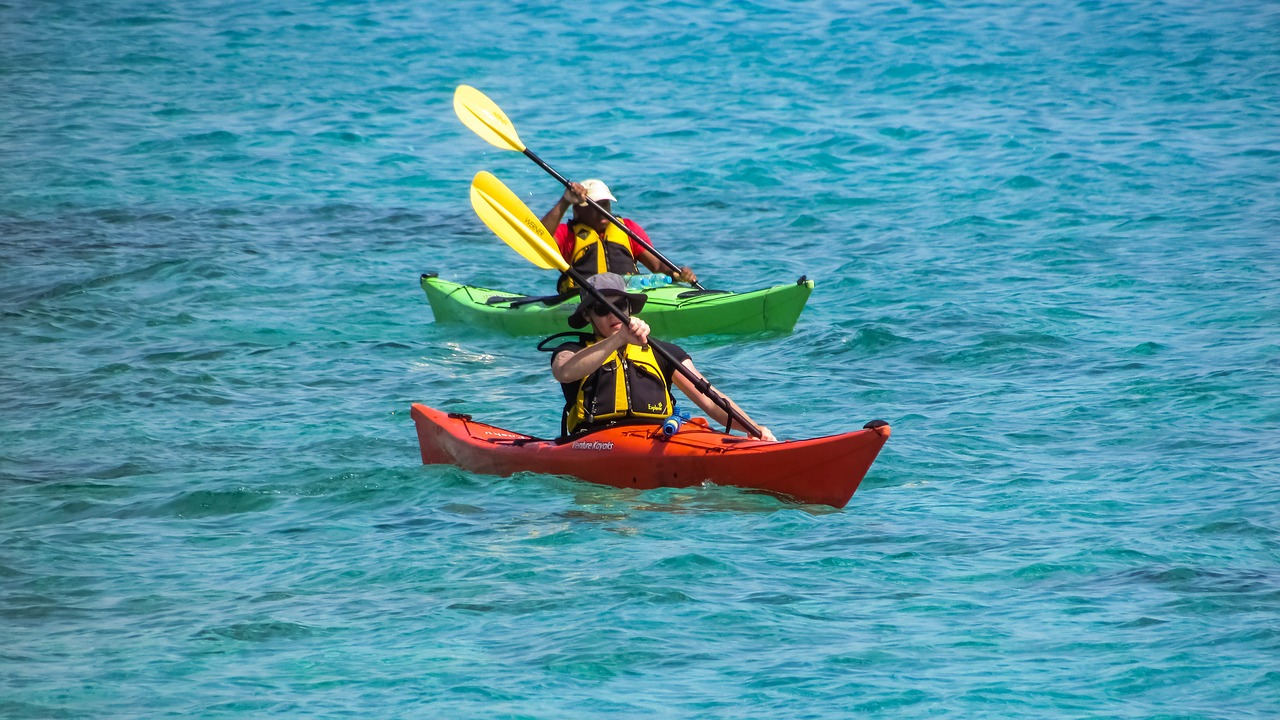kayak: (402, 391, 905, 532), (419, 270, 813, 342)
